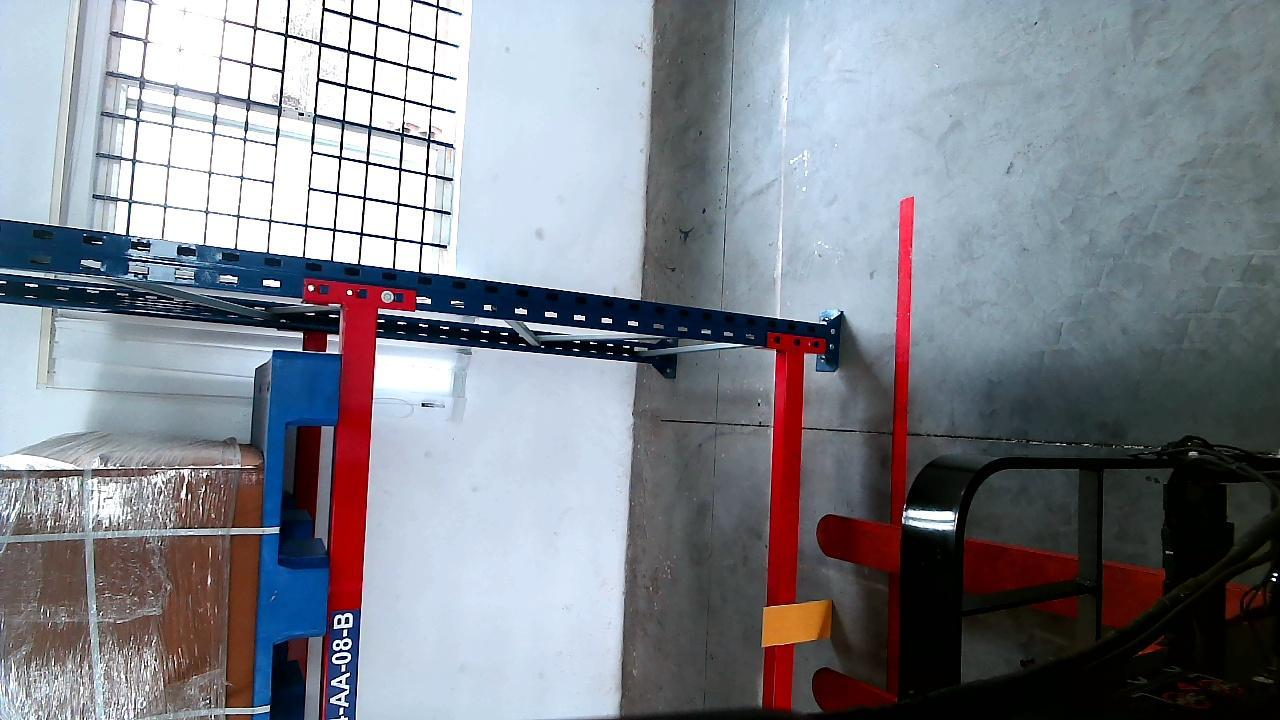red_line: (892, 198, 915, 524)
